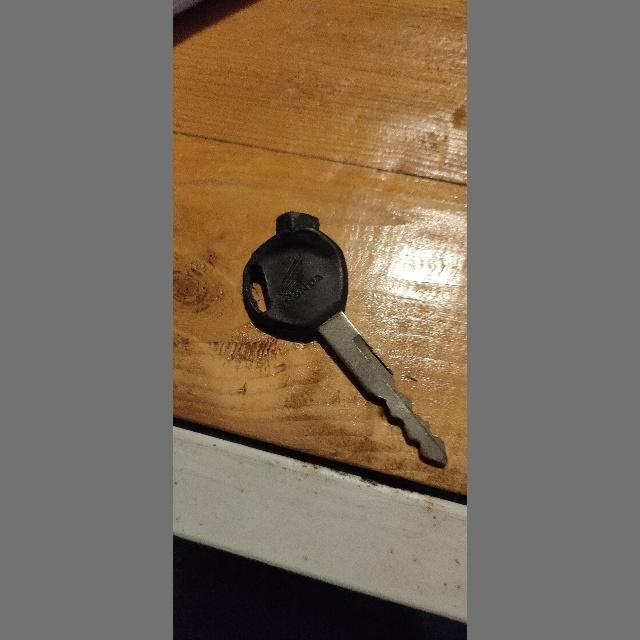Keys: (235, 204, 452, 472)
